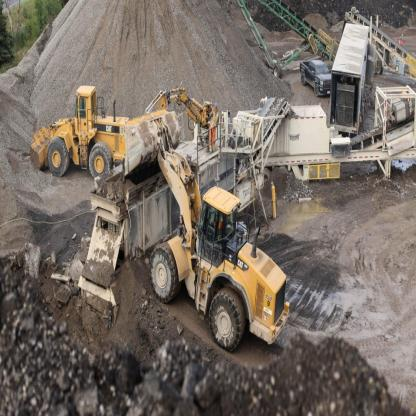bull_dozer/loader/grader: (122, 113, 290, 354), (22, 76, 129, 180)
